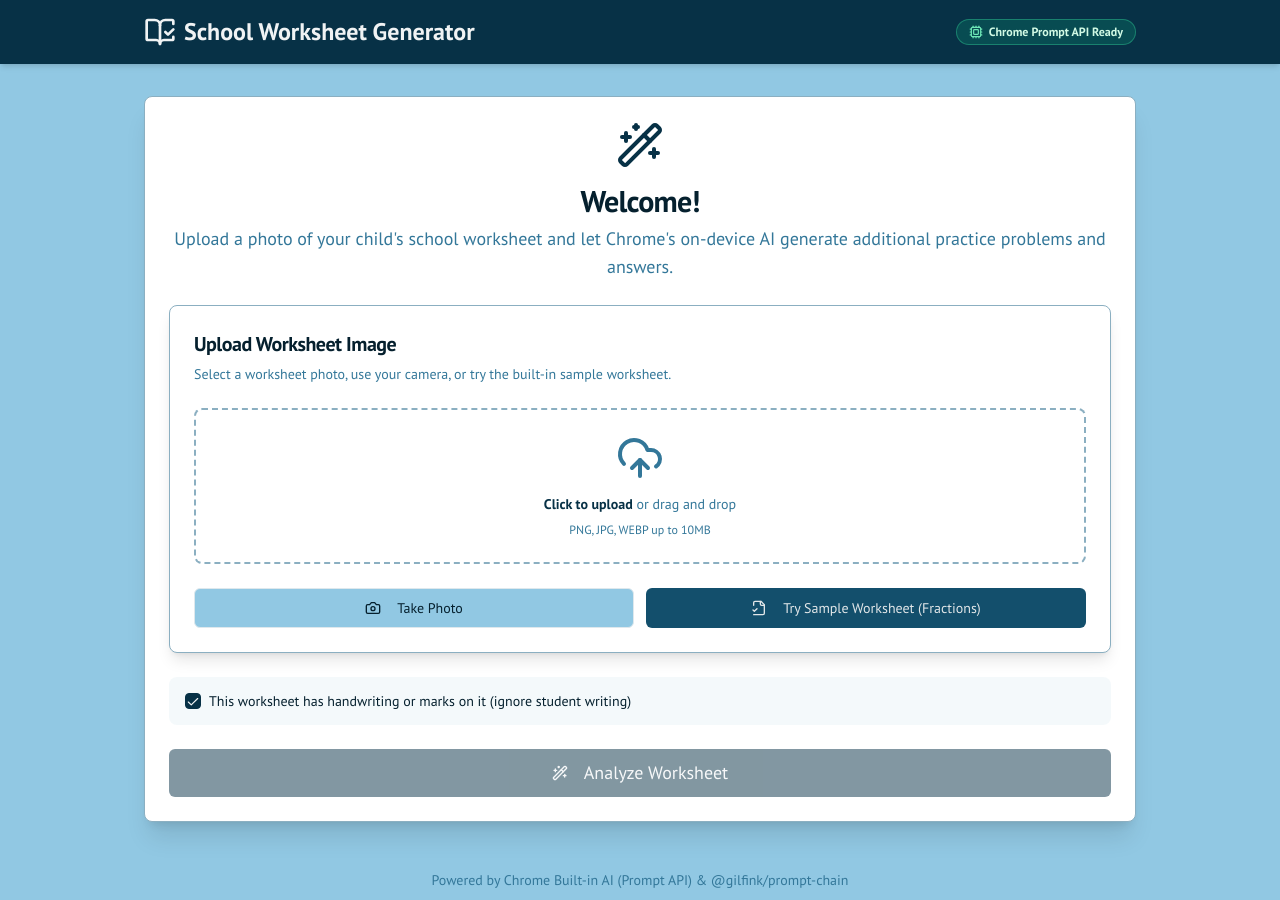
Test case: School Worksheet Generator UI Flow (src/components/__tests__/App.test.tsx) › loads sample-worksheet.jpg, analyzes the worksheet, generates practice problems, and reveals answers
Check: the text "Chrome Prompt API Ready" is shown, box [989,24,1123,40]
Check: the button "Analyze Worksheet" is disabled, box [169,749,1111,797]
# Click "Try Sample Worksheet (Fractions)"
Click the button with aria-label "load sample fractions worksheet" at (866, 608), box [646,588,1086,628]
(page scrolled)
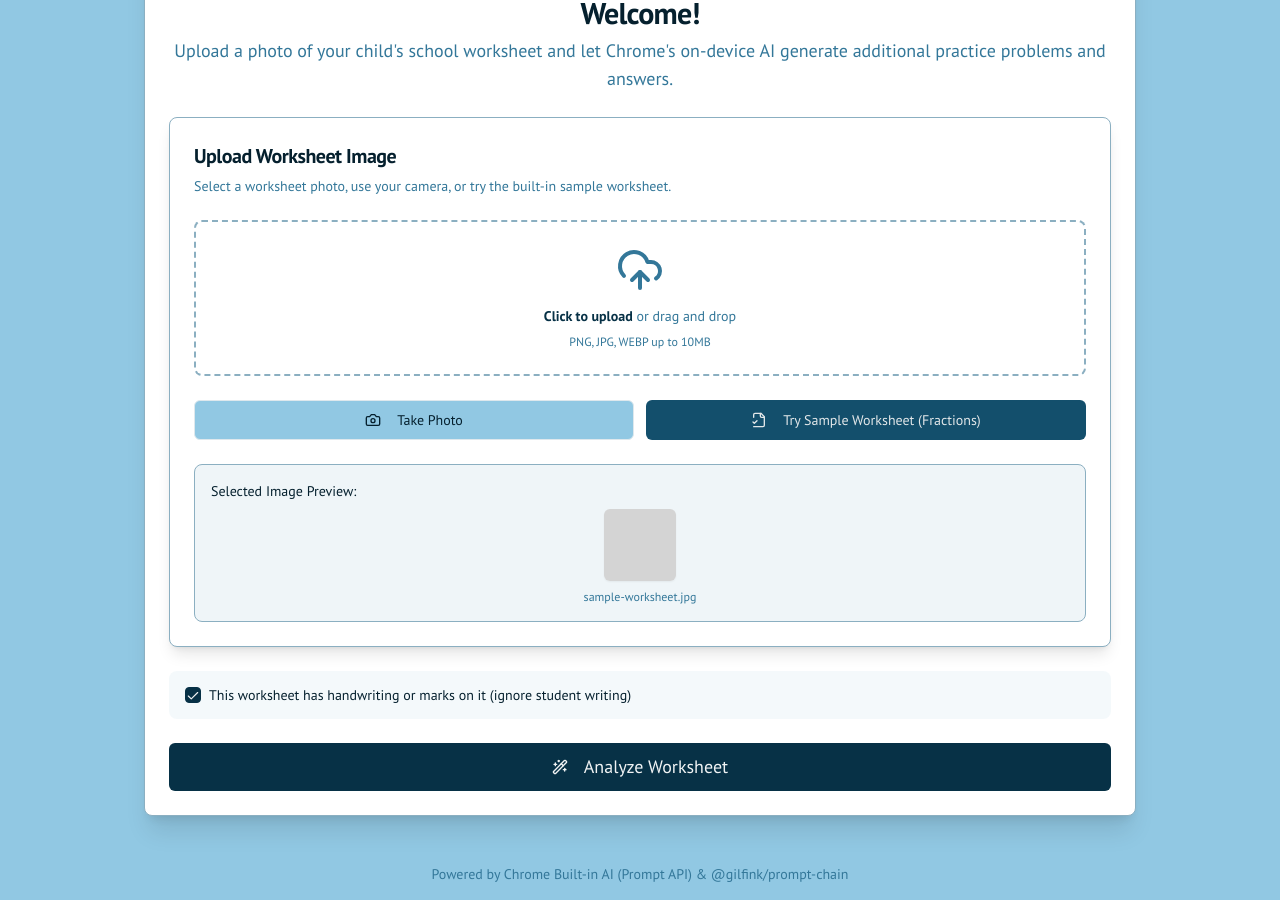
Check: the text "sample-worksheet.jpg" is shown, box [584,589,696,604]
Check: the button "Analyze Worksheet" is enabled
# Click "Analyze Worksheet"
Click the button "Analyze Worksheet" at (640, 767), box [169,743,1111,791]
(page scrolled)
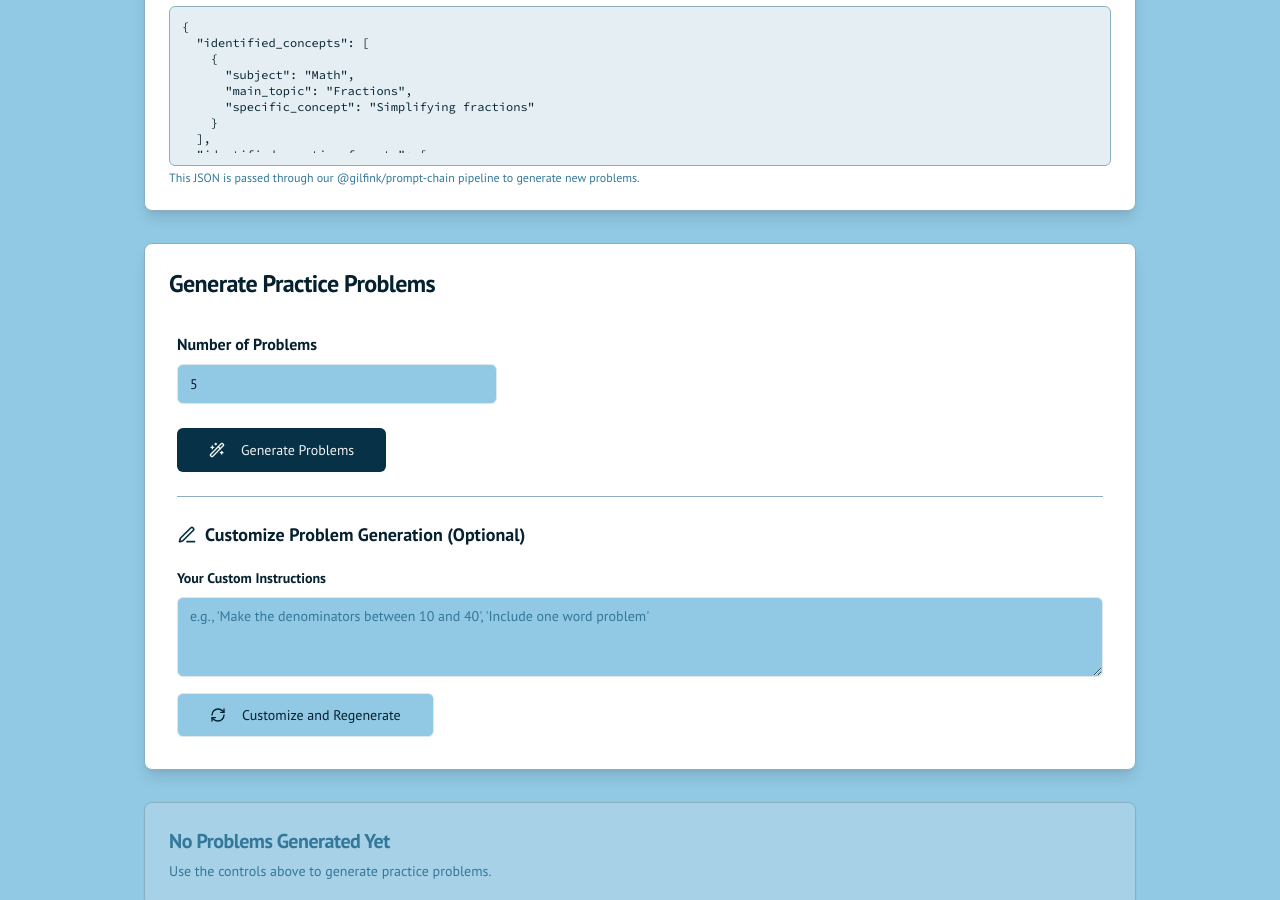
# Click "Generate Problems"
Click the button "Generate Problems" at (282, 450), box [177,428,386,472]
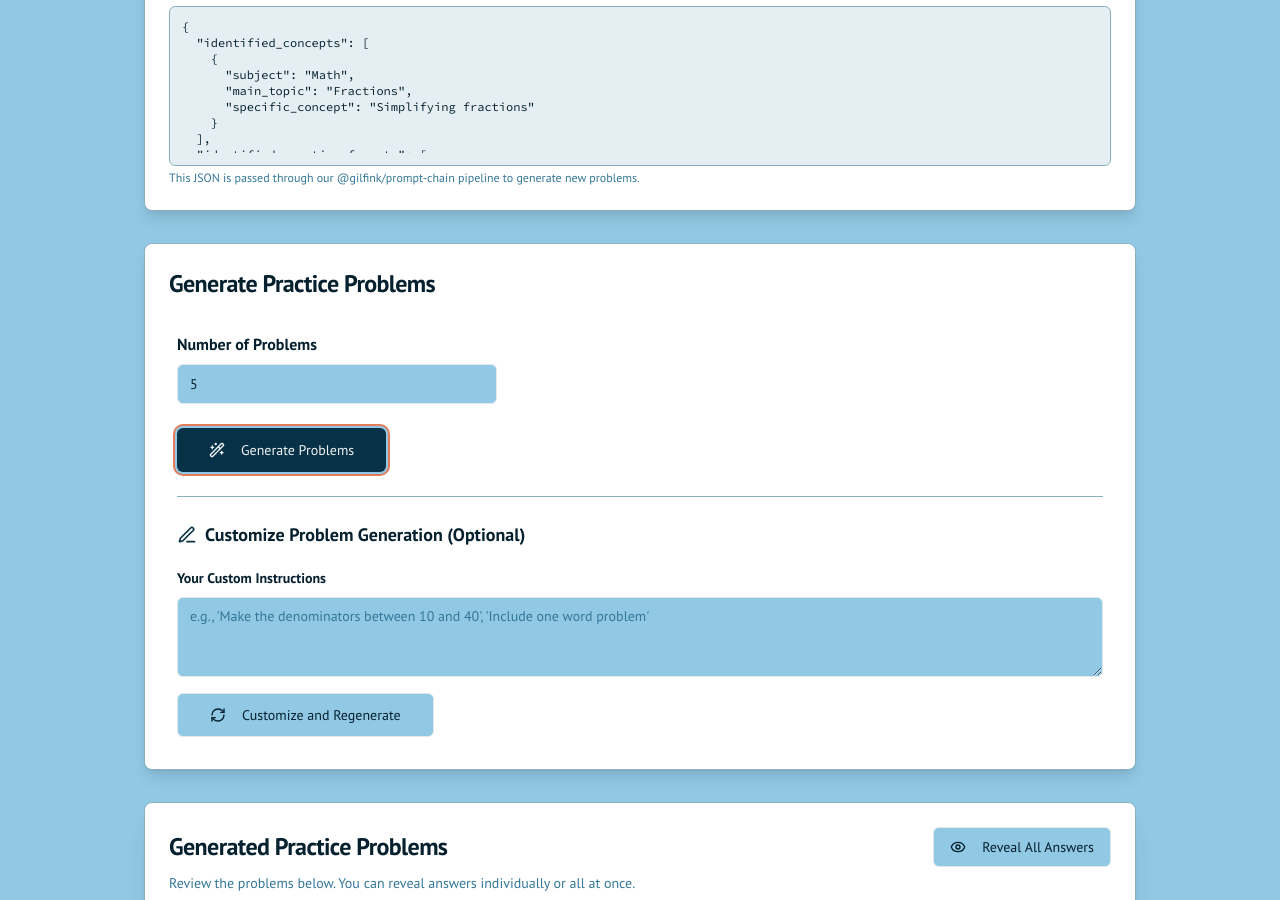
Check: the text "1/2" is not shown
# Click "Reveal All Answers"
Click the button "Reveal All Answers" at (1022, 847), box [933,827,1111,867]
(page scrolled)
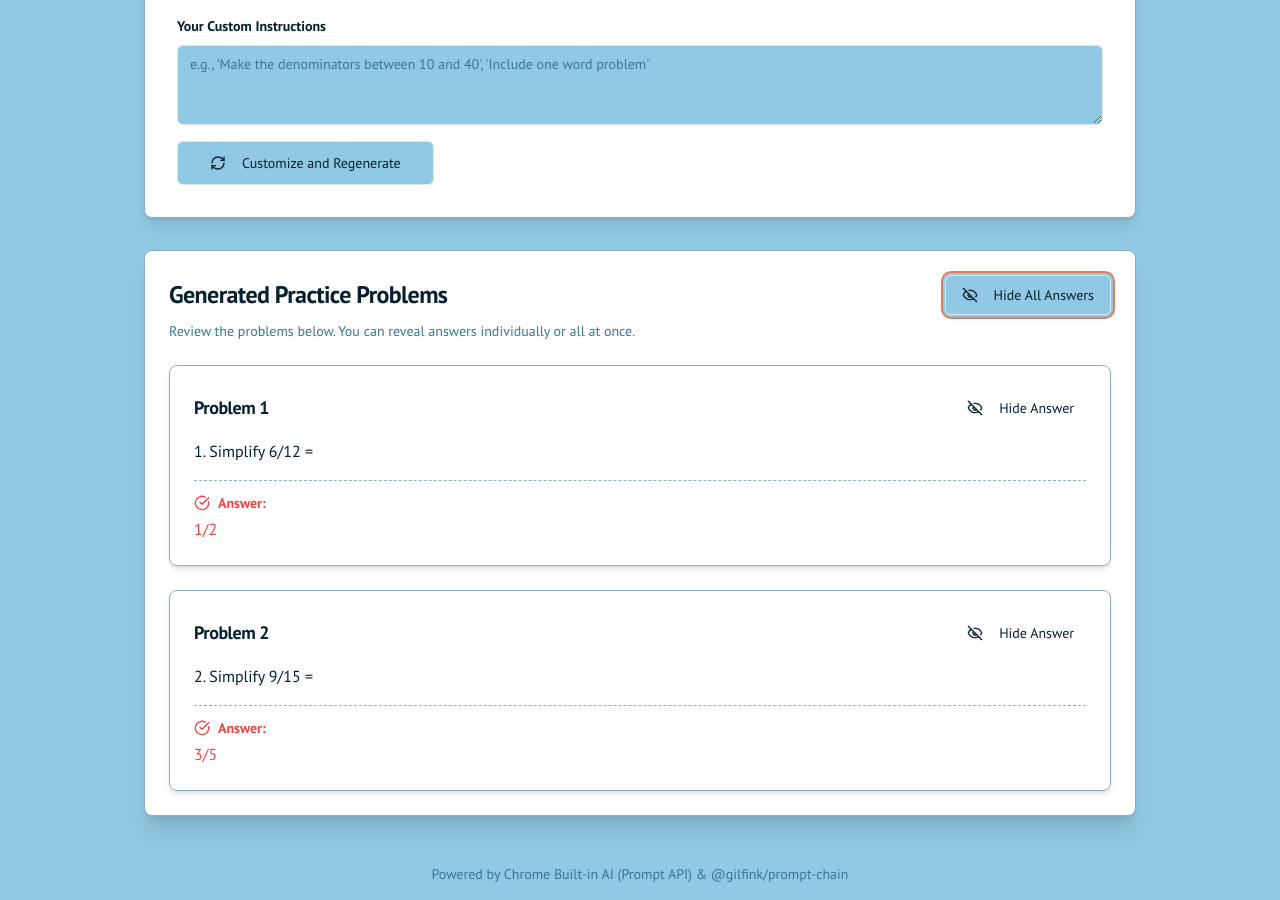
Check: the text "1/2" is shown, box [194,519,217,539]
Check: the text "3/5" is shown, box [194,744,217,764]
